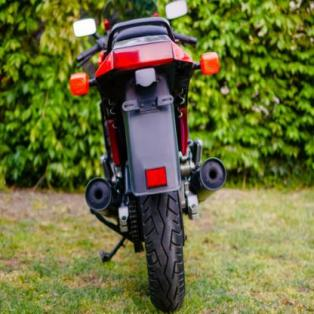Motocicleta: (62, 0, 232, 313)
